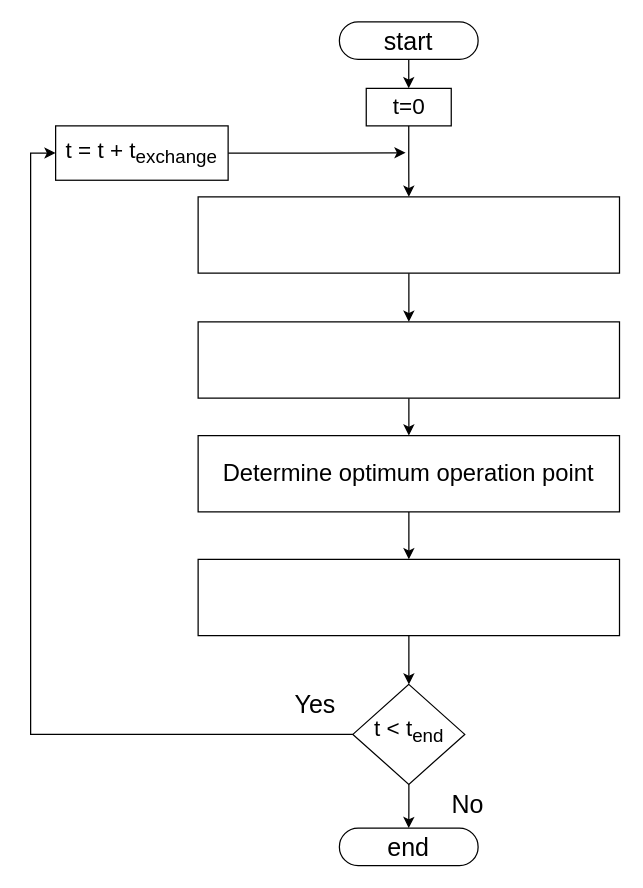
Image size: 643x888. Some labels were removed from this diagram. The shapes that lost their labels are listed below. From the top down, each one's centre as x and y in pixels, then its label:
pixel 408 234: Input system parameters from MES agents
pixel 408 359: Solve optimal power flow of power system
pixel 408 597: Send active power set points to MES agents
